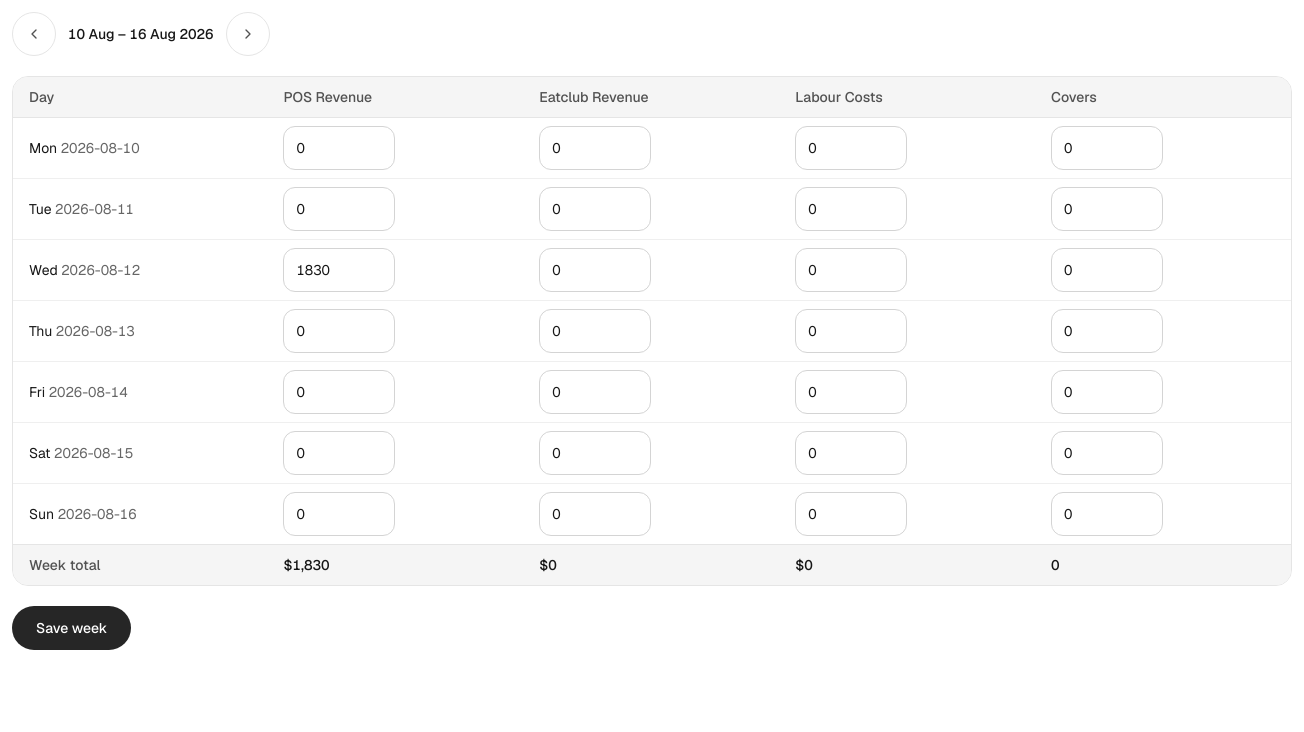
Test case: AS-022: an invalid entry › reports the refusal and leaves the edited value on screen to correct
Replace the text in the number field named "Labour Costs 2026-08-14" with "-1" at (851, 392), box [795,370,907,414]
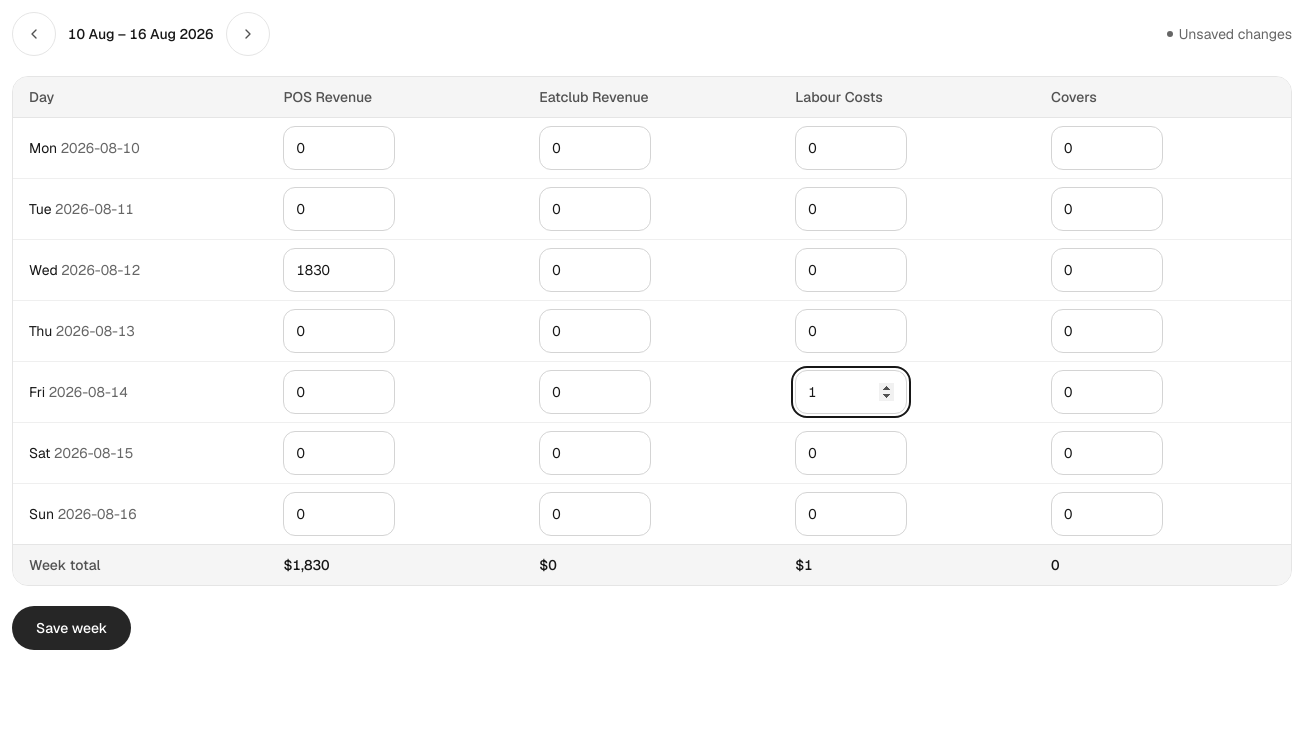
Click the button "Save week" at (72, 628), box [12,606,131,650]
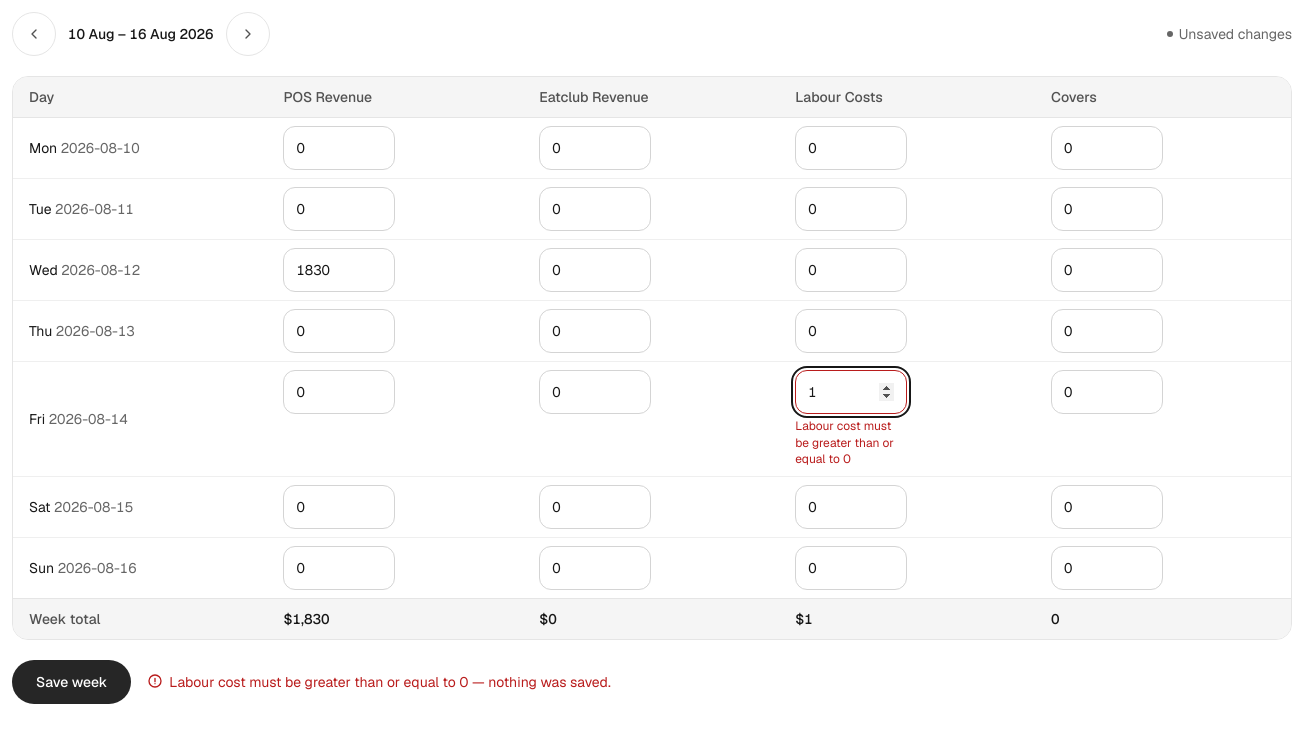
Now the message "Labour cost must be greater than or equal to 0 — nothing was saved." is shown, box [147,672,611,692]
